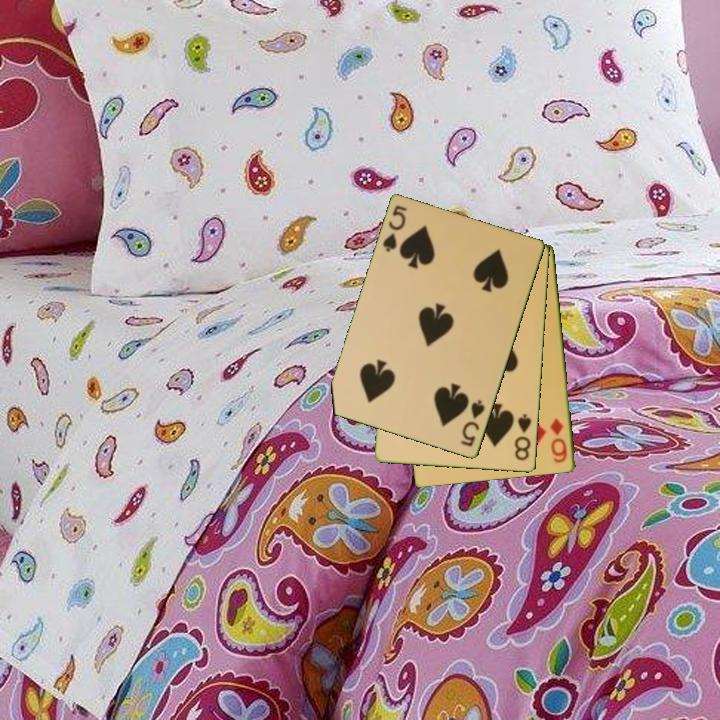5s: (457, 396, 488, 450), (379, 202, 410, 255)
6d: (547, 415, 570, 466)
8s: (511, 411, 534, 464)
